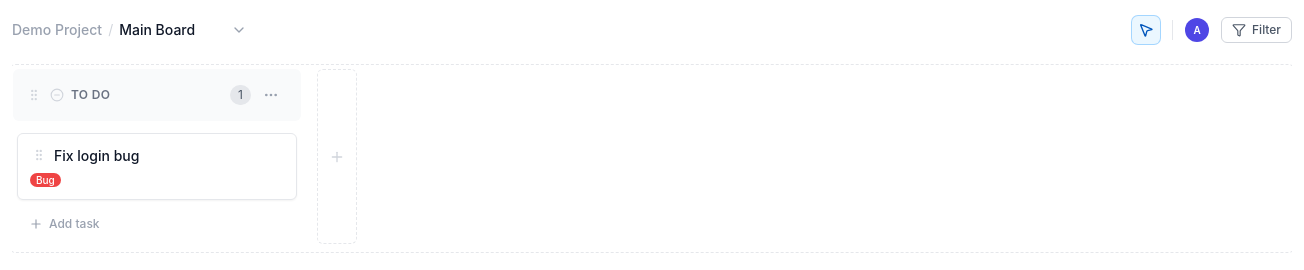
KanbanBoard › renders the label filter toggles behind the Filter menu and toggles a filter on click
What coordinates should you click on to do the following:
click the button "Filter"
I would click on:
 (1256, 30)
Its box is 1221,17 -> 1292,43.
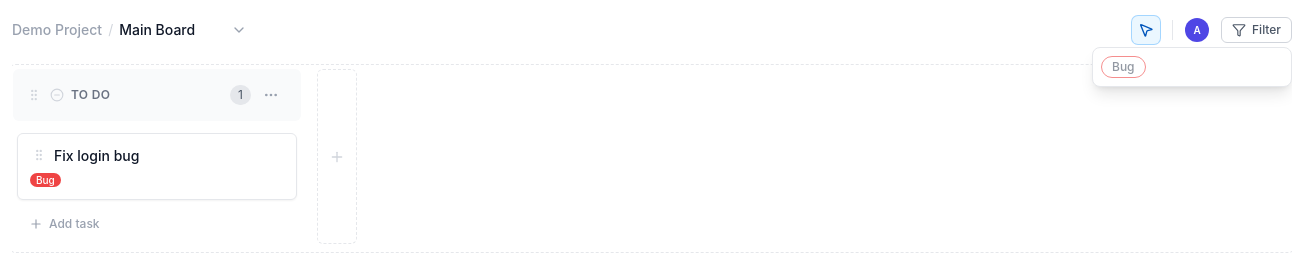
Expected: the menu item "Bug" is shown, 1101,56 -> 1146,78
